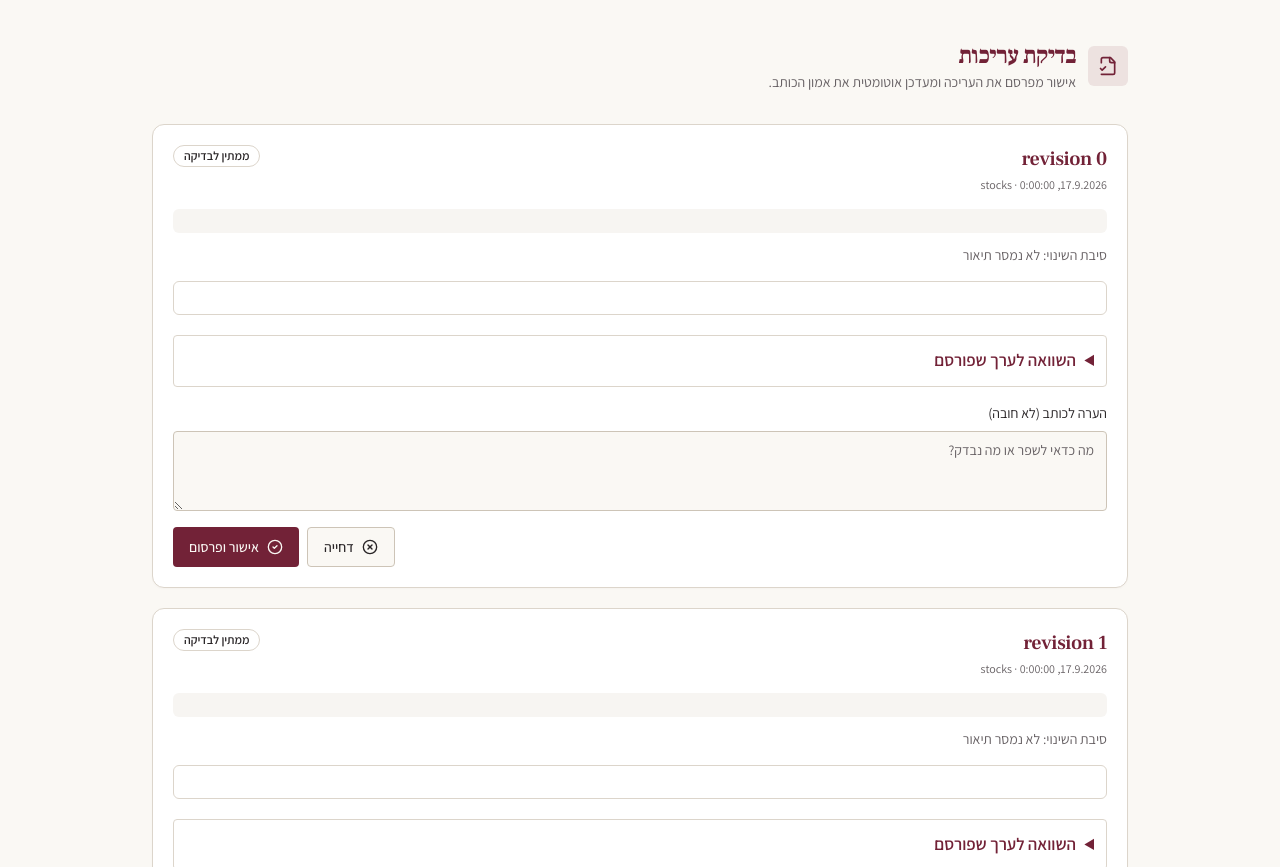
Test: refills the 100-row review queue from the database after a decision
Check: the heading "revision 0" is shown, box [1022,145,1107,173]
Check: the text "revision 100" is not shown
Click the button "דחייה" at (351, 546), box [307,526,395,566]
(page scrolled)
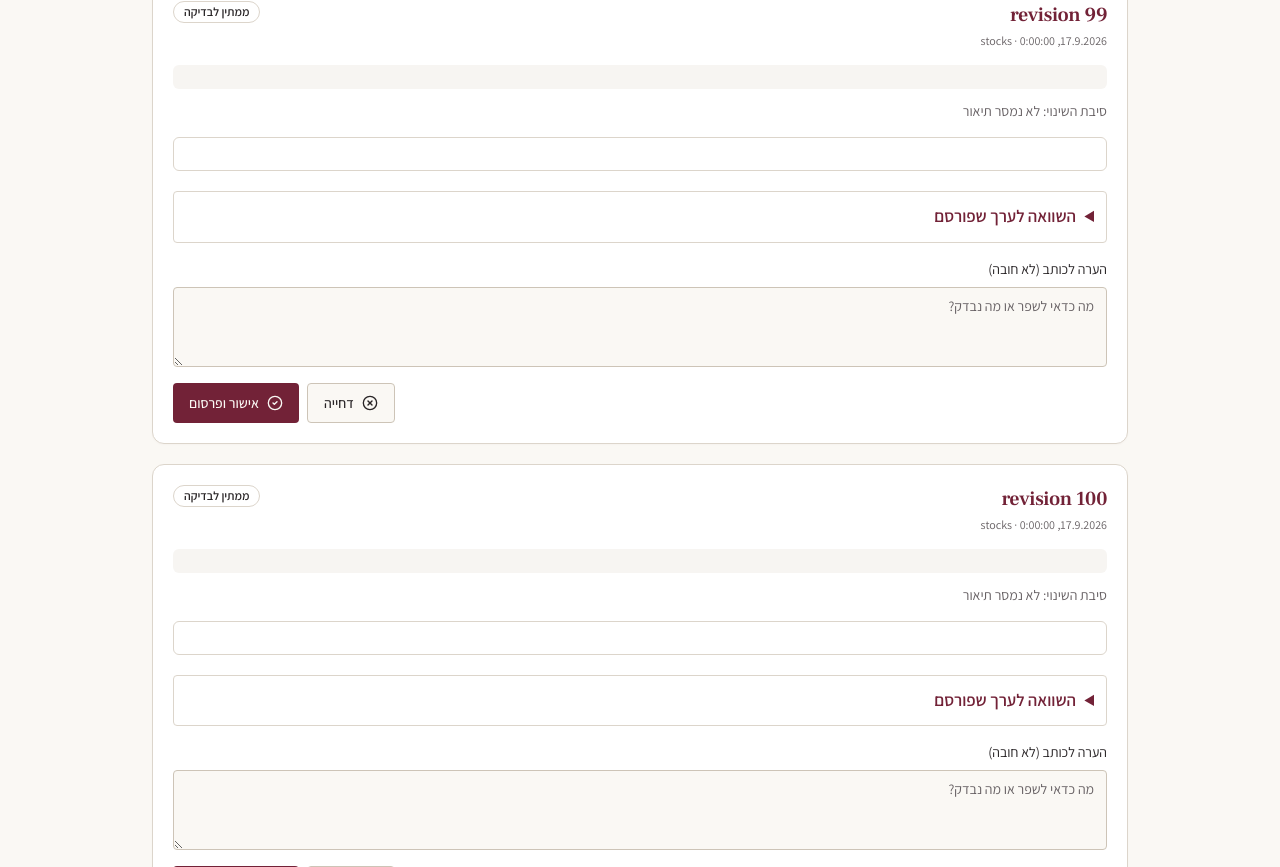
Check: the heading "revision 100" is shown, box [1001,484,1107,512]
Check: the heading "revision 0" is gone
